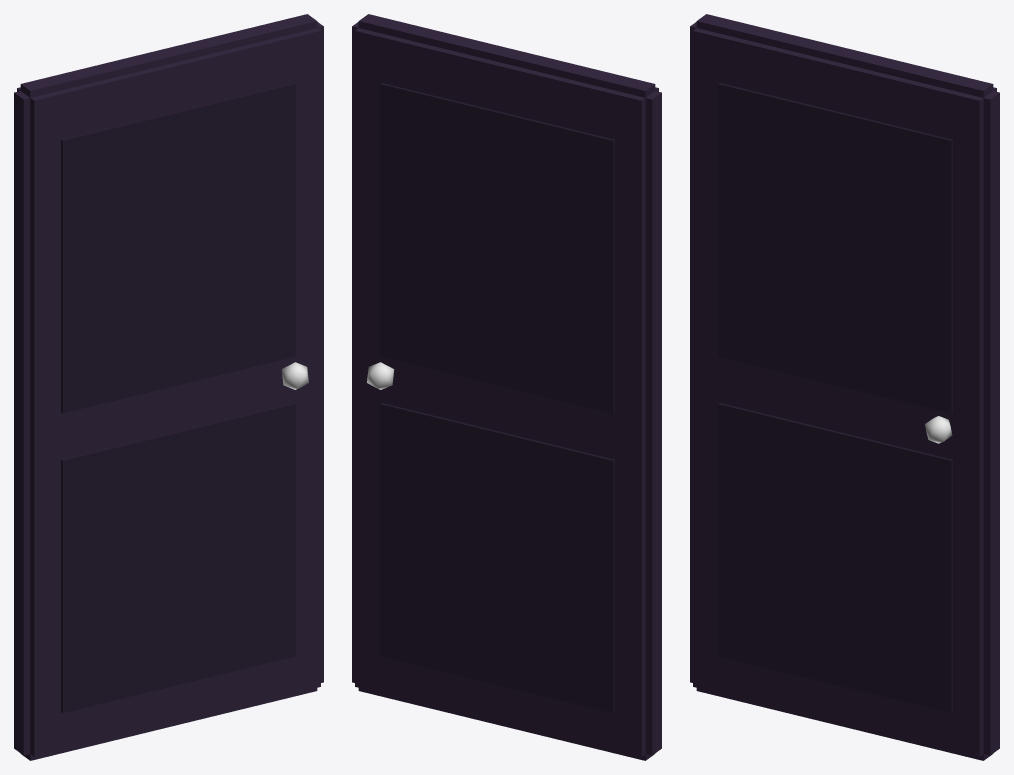
File: obsidian_door_v0.glb
3 views of the same model, side by side, from view 1: azimuth 30°, elevation 25°; view 2: azimuth 150°, elevation 25°; view 3: azimuth 330°, elevation 25° (orthographic).
Parts seen in each view (by area): view 1: obsidian_door_v0; view 2: obsidian_door_v0; view 3: obsidian_door_v0.
Part boxes in pixels (left/top/right/bottom): obsidian_door_v0: left=14, top=14, right=323, bottom=760; obsidian_door_v0: left=352, top=14, right=661, bottom=760; obsidian_door_v0: left=690, top=14, right=999, bottom=760.
Bounding box in the file's own units: 0.9 × 1.92 × 0.2381.
